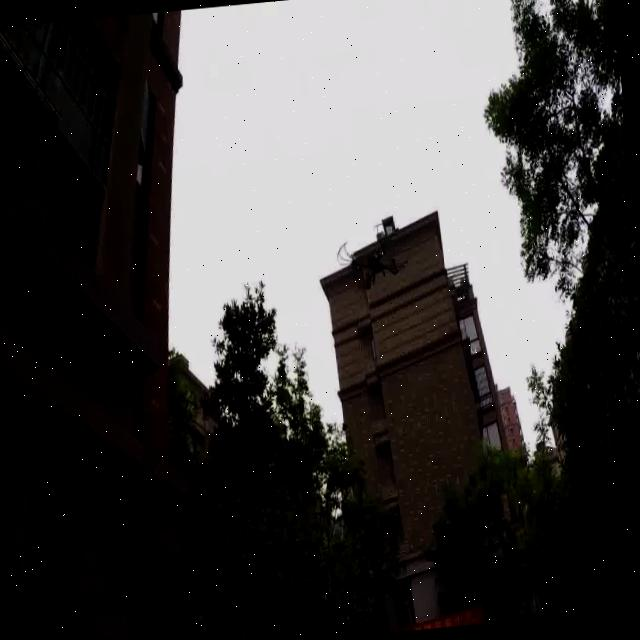drone: (318, 220, 420, 299)
